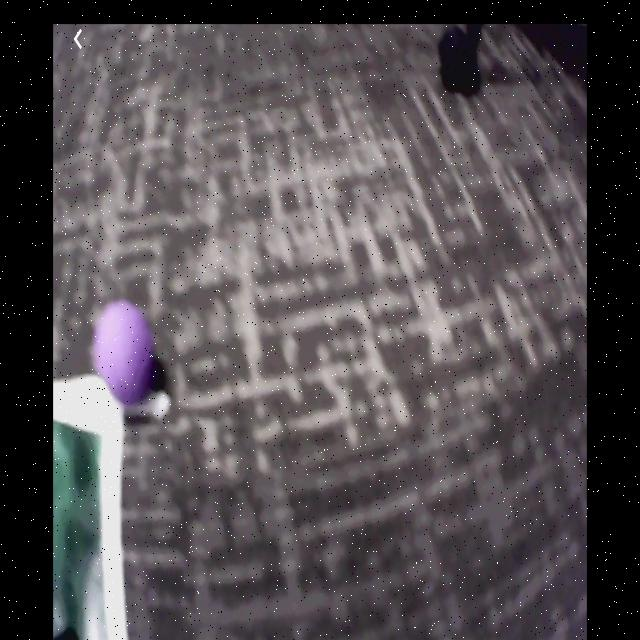ball: (91, 298, 158, 408)
